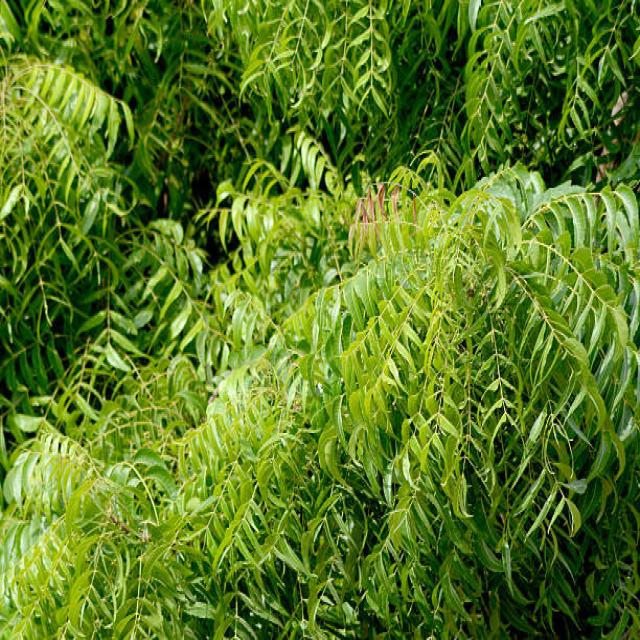Neem-Tree: (0, 0, 640, 637)
